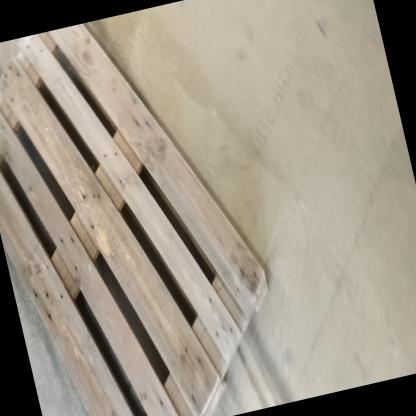BoxFace: (0, 23, 280, 416)
